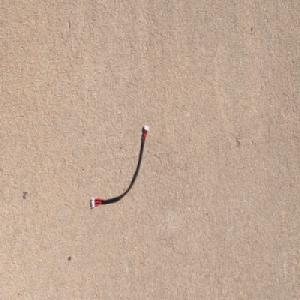Wire: (90, 123, 149, 209)
